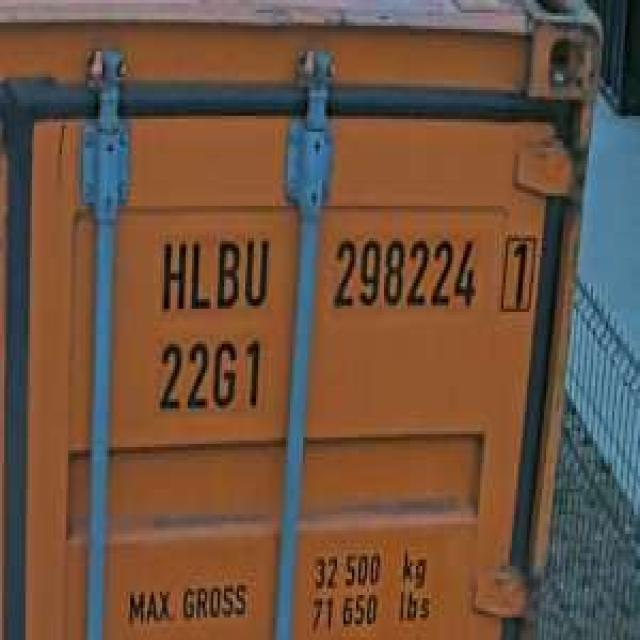dv: (495, 222, 542, 322)
owner: (154, 225, 271, 315)
serial: (326, 225, 480, 315)
size: (152, 328, 266, 418)
